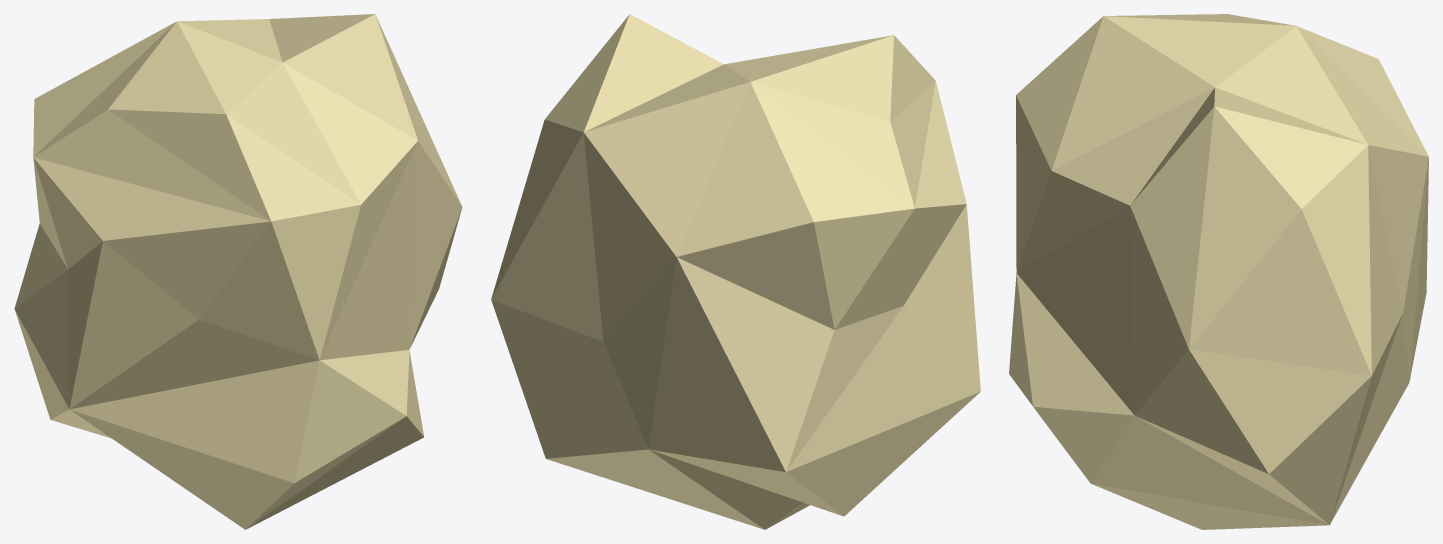
Rendered from HamamelisVirginiana.glb.
The picture shows the model from 3 angles, left to right: view 1: azimuth 30°, elevation 25°; view 2: azimuth 150°, elevation 25°; view 3: azimuth 270°, elevation 25°; orthographic projection. The views are drawn at different scales.
Visible parts, largest first — view 1: Crown; view 2: Crown; view 3: Crown.
Part boxes in pixels (x1,y1,x2,y2): Crown: [14, 14, 462, 529]; Crown: [491, 14, 980, 529]; Crown: [1009, 14, 1428, 529].
Bounding box in the file's own units: 3.73 × 3.92 × 3.21.
